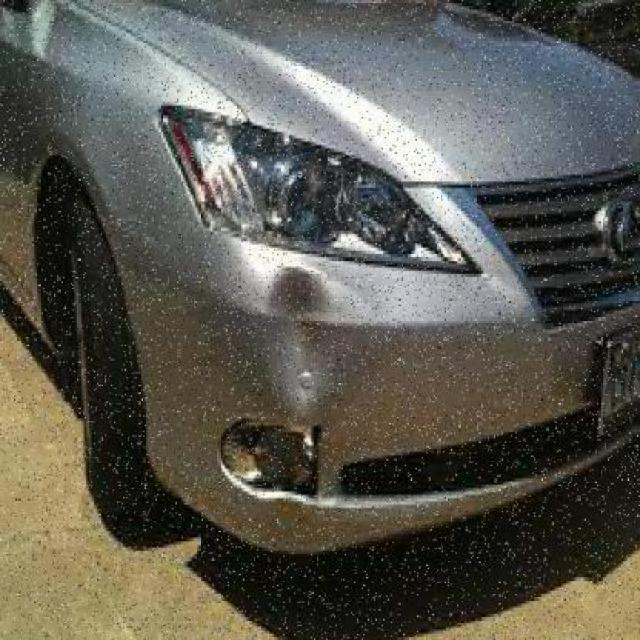car damage: (260, 256, 404, 427)
